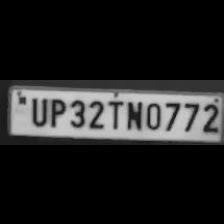0: (142, 98, 162, 130)
2: (198, 99, 220, 133), (86, 96, 106, 128)
3: (66, 94, 86, 128)
7: (179, 98, 199, 132), (162, 97, 180, 130)
N: (124, 98, 142, 130)
P: (46, 95, 66, 127)
T: (106, 96, 124, 130)
U: (28, 94, 48, 125)
